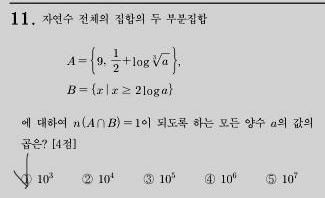choice: (12, 167, 34, 189)
not-choice: (202, 172, 217, 186), (80, 173, 94, 186), (264, 173, 277, 186), (142, 173, 154, 185)
